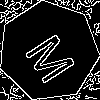M: (23, 26, 85, 87)
